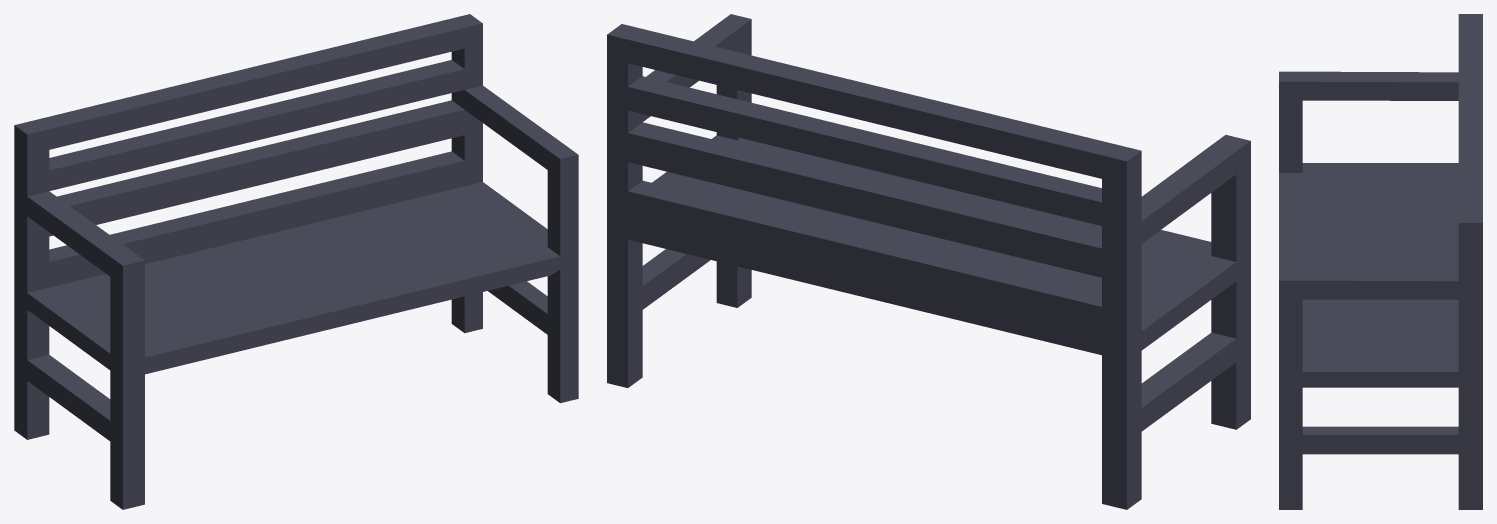
File: bench.obj
3 renders of one model, left to right at view 1: azimuth 30°, elevation 25°; view 2: azimuth 150°, elevation 25°; view 3: azimuth 270°, elevation 25°, orthographic. The views are drawn at different scales.
Visible parts, largest first — view 1: Bench_Plane; view 2: Bench_Plane; view 3: Bench_Plane.
Boxes of the visible parts, x1=… form: Bench_Plane: x1=14, y1=14, x2=578, y2=509; Bench_Plane: x1=607, y1=14, x2=1250, y2=509; Bench_Plane: x1=1279, y1=14, x2=1482, y2=509.
Size of the model in its own units: 3.57 by 2.29 by 1.47.
Materials: 1 (1 with a texture image).
